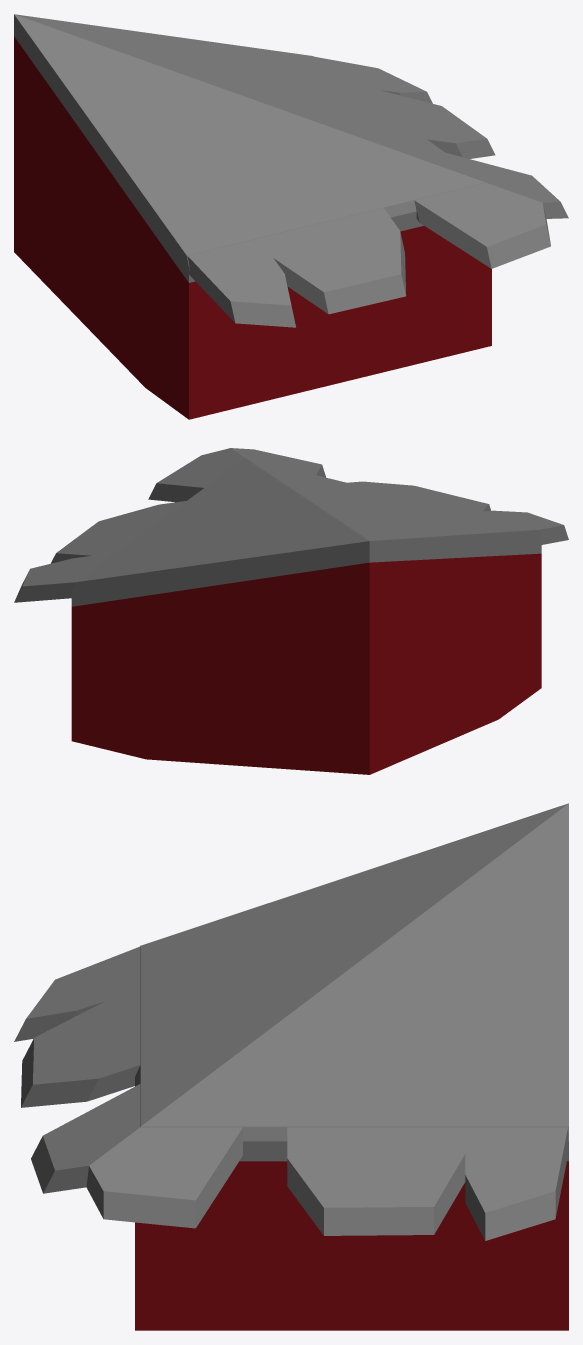
File: SM_MH_01_Slate_Porch_Roof_End_Corner_01.fbx
3 views of the same model, one above another, from view 1: azimuth 30°, elevation 25°; view 2: azimuth 150°, elevation 25°; view 3: azimuth 270°, elevation 25° (orthographic). The views are drawn at different scales.
Parts seen in each view (by area): view 1: SM_MH_01_Slate_Porch_Roof_End_Corner_01_LOD0; view 2: SM_MH_01_Slate_Porch_Roof_End_Corner_01_LOD0; view 3: SM_MH_01_Slate_Porch_Roof_End_Corner_01_LOD0.
Part boxes in pixels (left/top/right/bottom): SM_MH_01_Slate_Porch_Roof_End_Corner_01_LOD0: left=14, top=14, right=568, bottom=419; SM_MH_01_Slate_Porch_Roof_End_Corner_01_LOD0: left=14, top=448, right=568, bottom=774; SM_MH_01_Slate_Porch_Roof_End_Corner_01_LOD0: left=14, top=803, right=568, bottom=1330.
Size of what is drawn, in the model's own units: 51.16 by 35 by 51.16.
